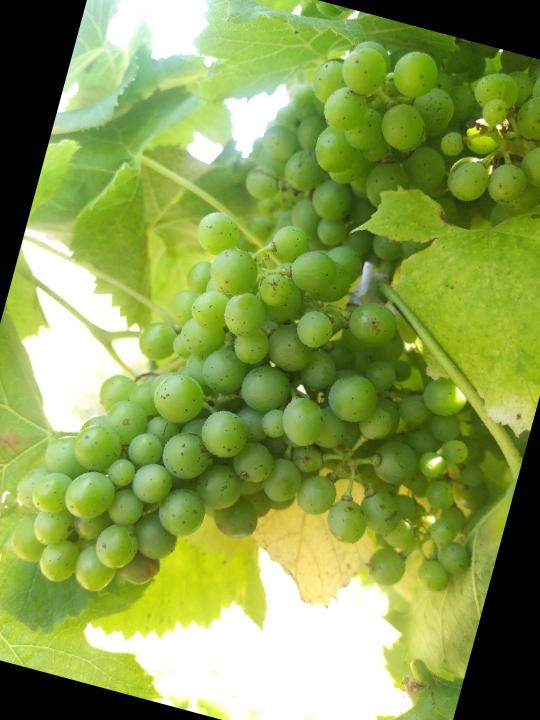grape: (0, 175, 540, 688)
